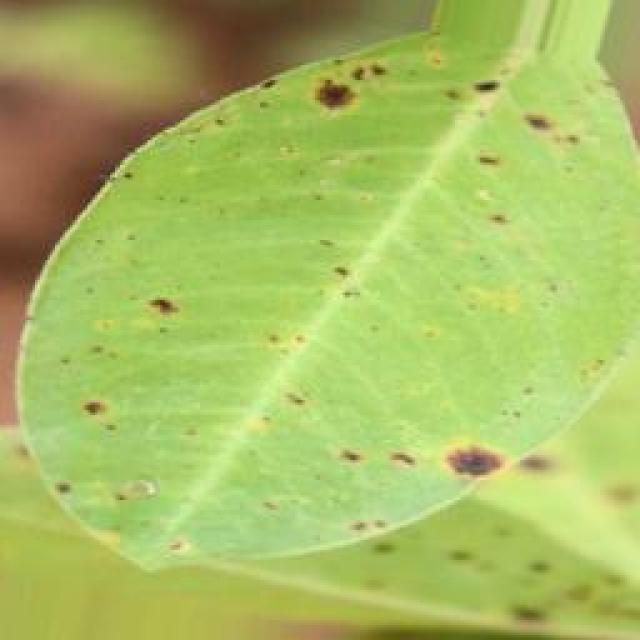Yellowish: (5, 35, 618, 561)
